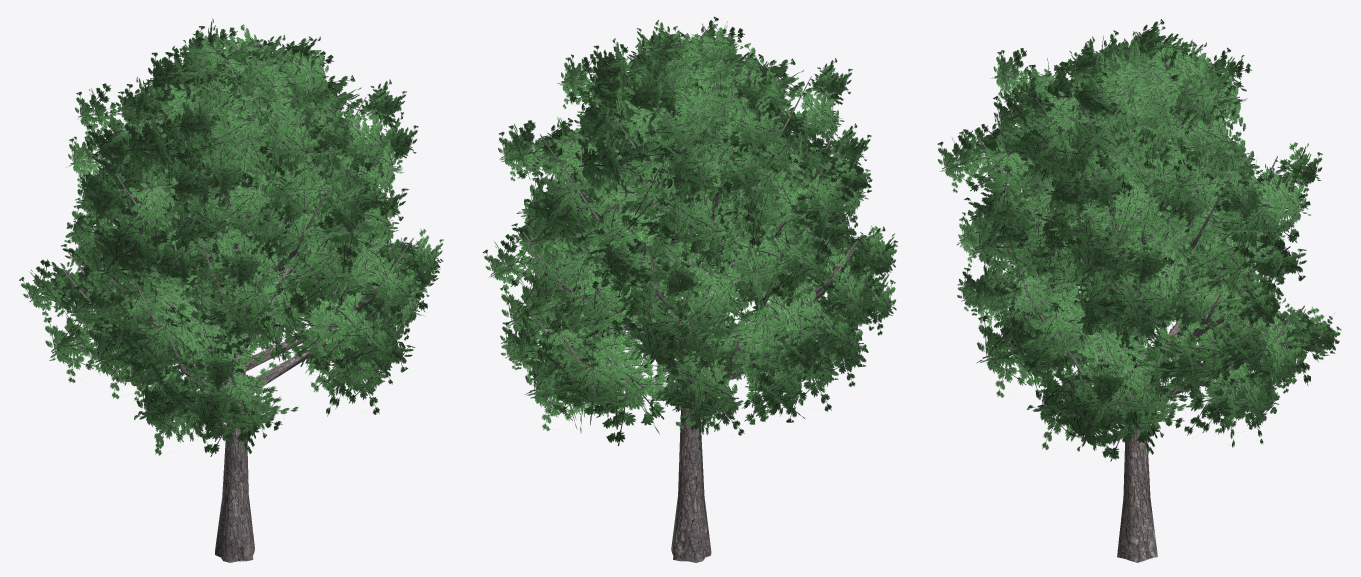
3 views of the same model, side by side, from view 1: azimuth 30°, elevation 25°; view 2: azimuth 150°, elevation 25°; view 3: azimuth 270°, elevation 25° (orthographic).
Parts seen in each view (by area): view 1: tree6_bark_0.112; view 2: tree6_bark_0.112; view 3: tree6_bark_0.112.
Boxes of the visible parts, box(x1,y1,x2,y2) form: tree6_bark_0.112: box(19, 18, 443, 562); tree6_bark_0.112: box(482, 16, 897, 562); tree6_bark_0.112: box(937, 19, 1341, 562).
Bounding box in the file's own units: 0.4313 × 0.5901 × 0.4246.
Materials: 2 (2 with a texture image).
